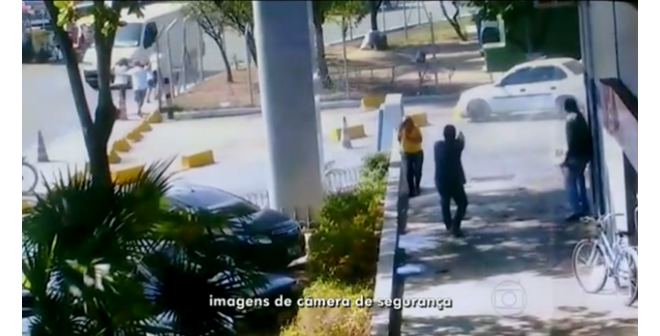Humano: (552, 93, 595, 224), (434, 116, 473, 241), (396, 112, 428, 203), (114, 53, 133, 117), (130, 57, 149, 116)
